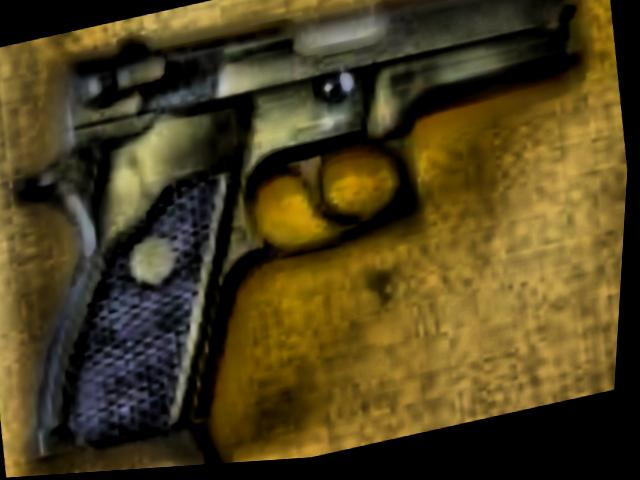pistol: (0, 0, 628, 480)
